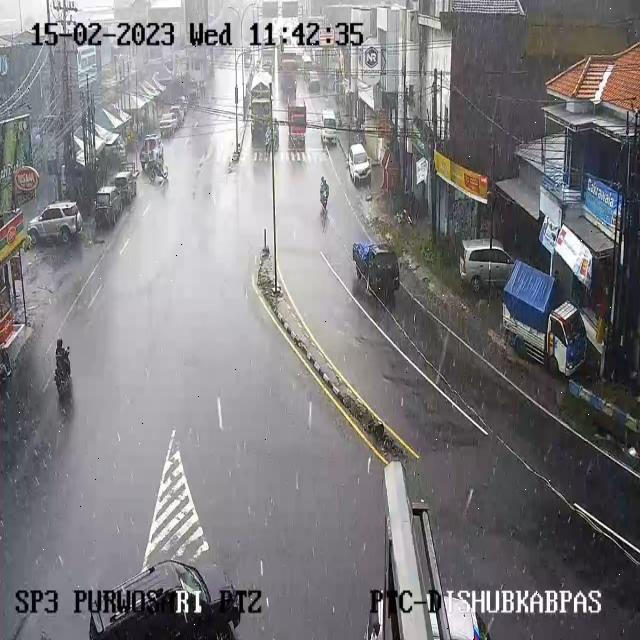Car: (86, 561, 241, 638), (458, 238, 514, 294), (355, 242, 400, 299), (27, 202, 82, 246), (93, 186, 125, 226), (139, 134, 165, 173), (347, 143, 371, 184), (112, 170, 138, 202), (320, 108, 338, 144), (159, 111, 178, 135), (307, 68, 321, 94), (261, 48, 275, 73), (169, 105, 184, 126), (301, 54, 313, 75), (176, 96, 188, 117)
Motorbike: (48, 333, 76, 397), (318, 176, 332, 212), (265, 123, 279, 154)
Truck: (498, 261, 586, 381), (250, 75, 272, 131), (287, 104, 307, 154), (279, 54, 298, 96)
